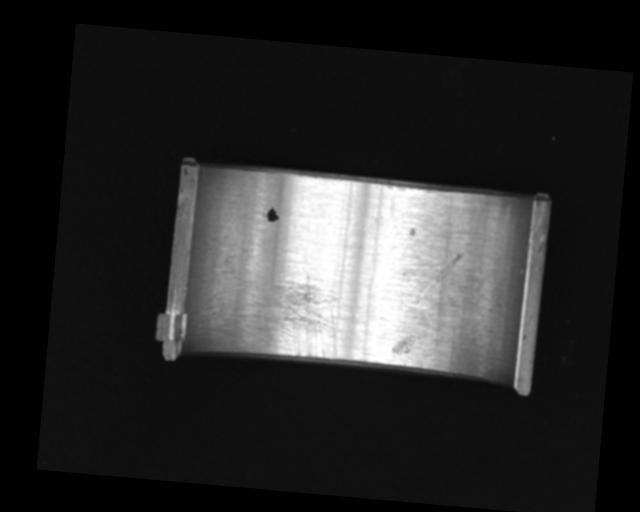blot: (265, 206, 280, 223)
bruise: (390, 333, 417, 357), (408, 225, 417, 237)
nick: (417, 250, 462, 308)
scratch: (214, 266, 344, 360)
